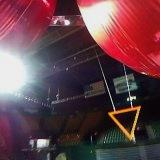Orange_Triangle_Gshape: (108, 105, 141, 140)
